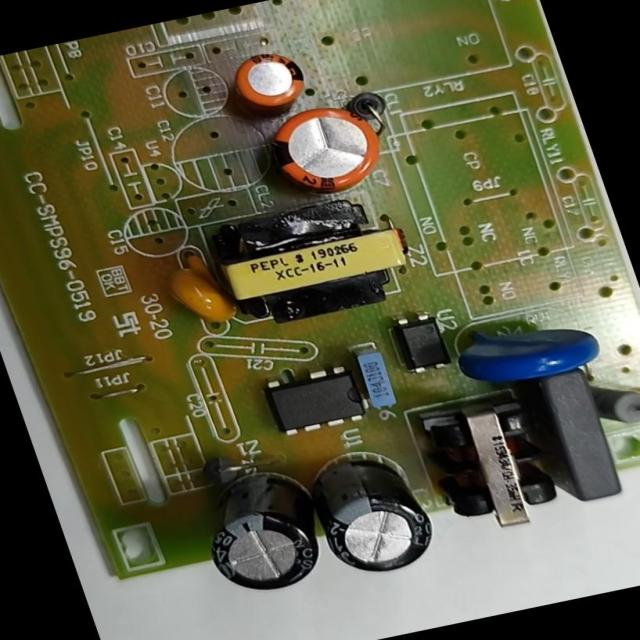Cap1: (246, 93, 396, 203)
Cap2: (216, 42, 318, 118)
Cap3: (288, 434, 451, 584)
Cap4: (174, 449, 349, 604)
MOSFET: (253, 355, 377, 441)
Mov: (434, 297, 612, 398)
Resistor: (584, 364, 639, 438)
Transformer: (195, 184, 429, 332), (410, 388, 576, 540)
